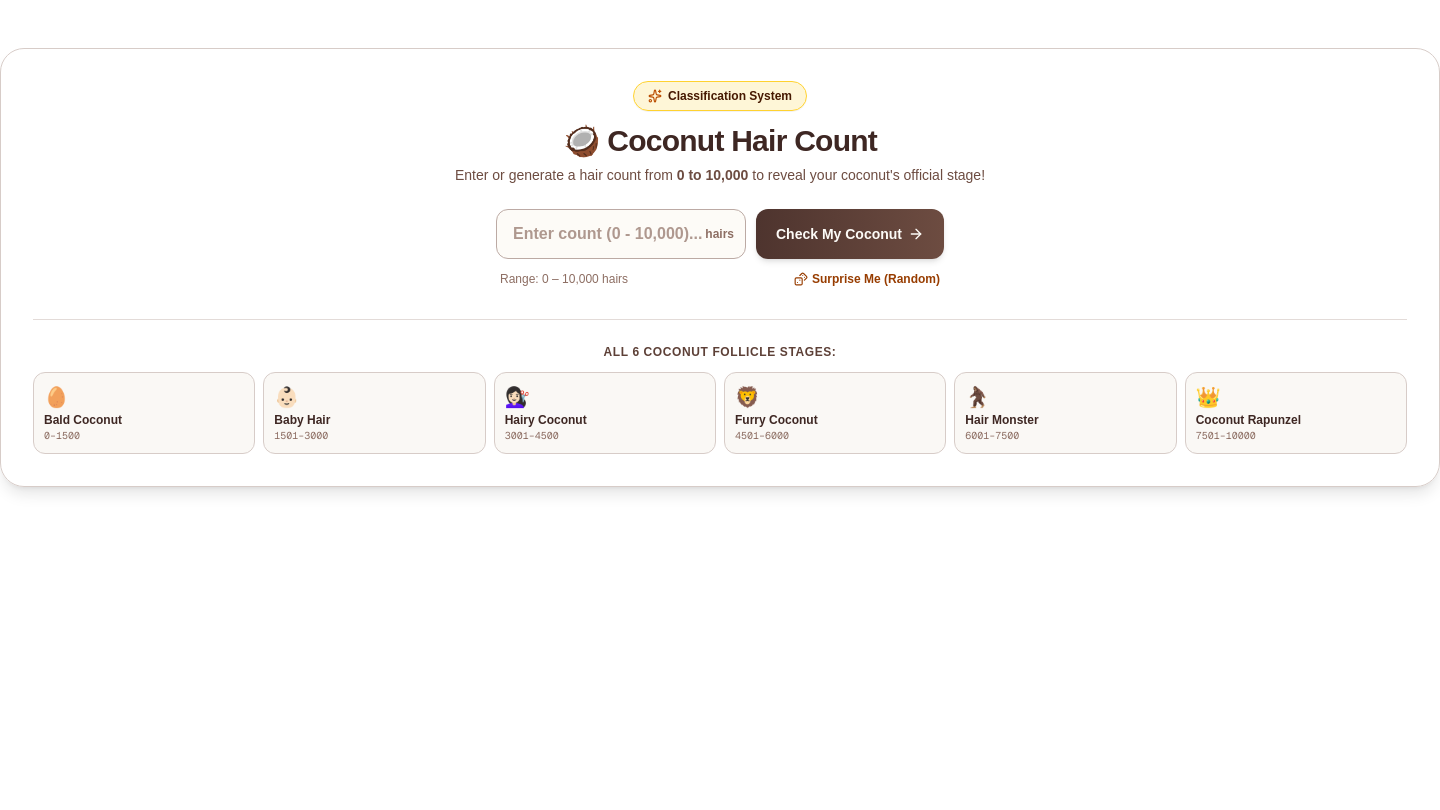
Test: CoconutStageClassifier & getStageForCount › interactively checks input and displays hair count, coconut stage and handles validation
Type "5500" into the number field with placeholder "Enter count (0 - 10,000)..." at (621, 234), box [496,209,746,259]
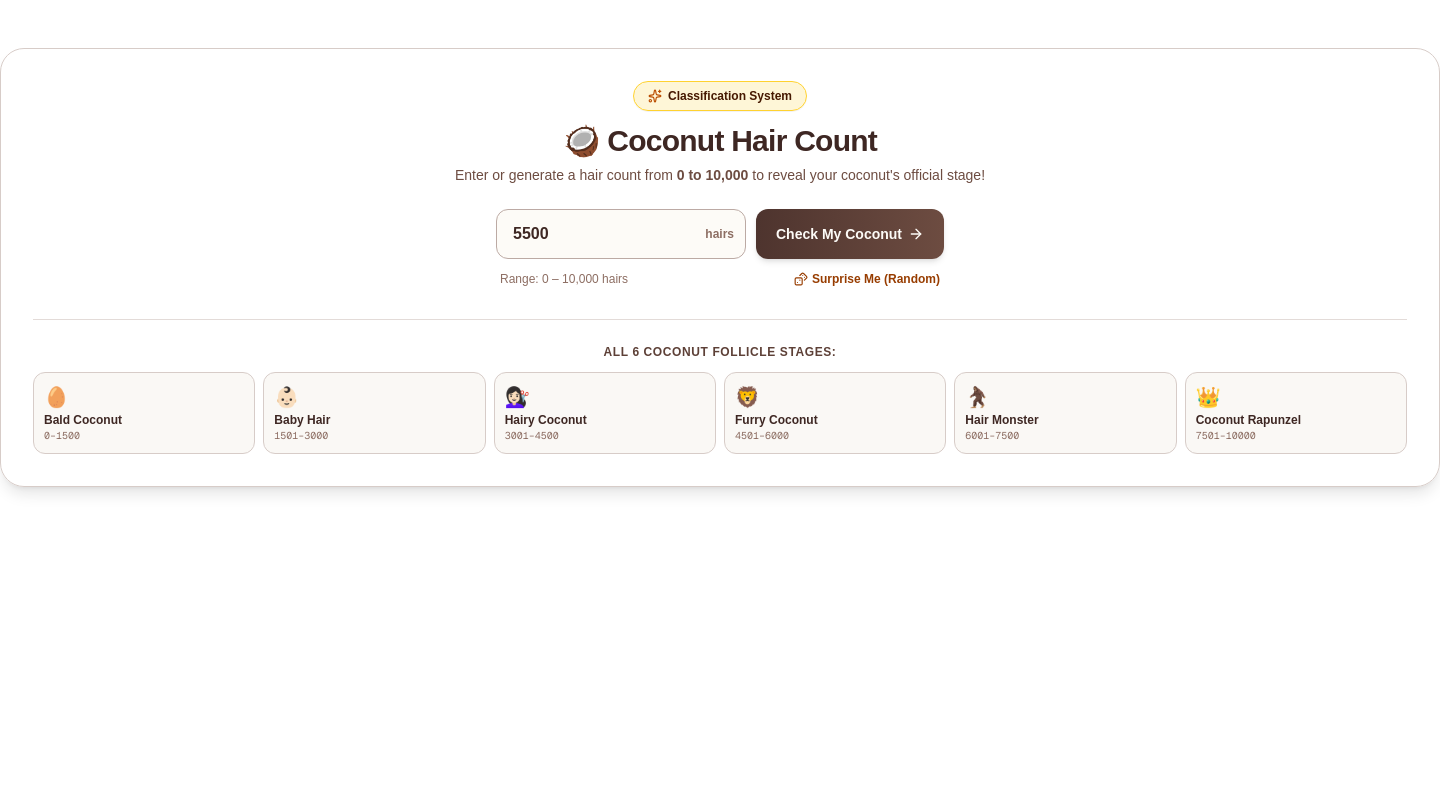
Click the button "Check My Coconut" at (850, 234), box [756,209,944,259]
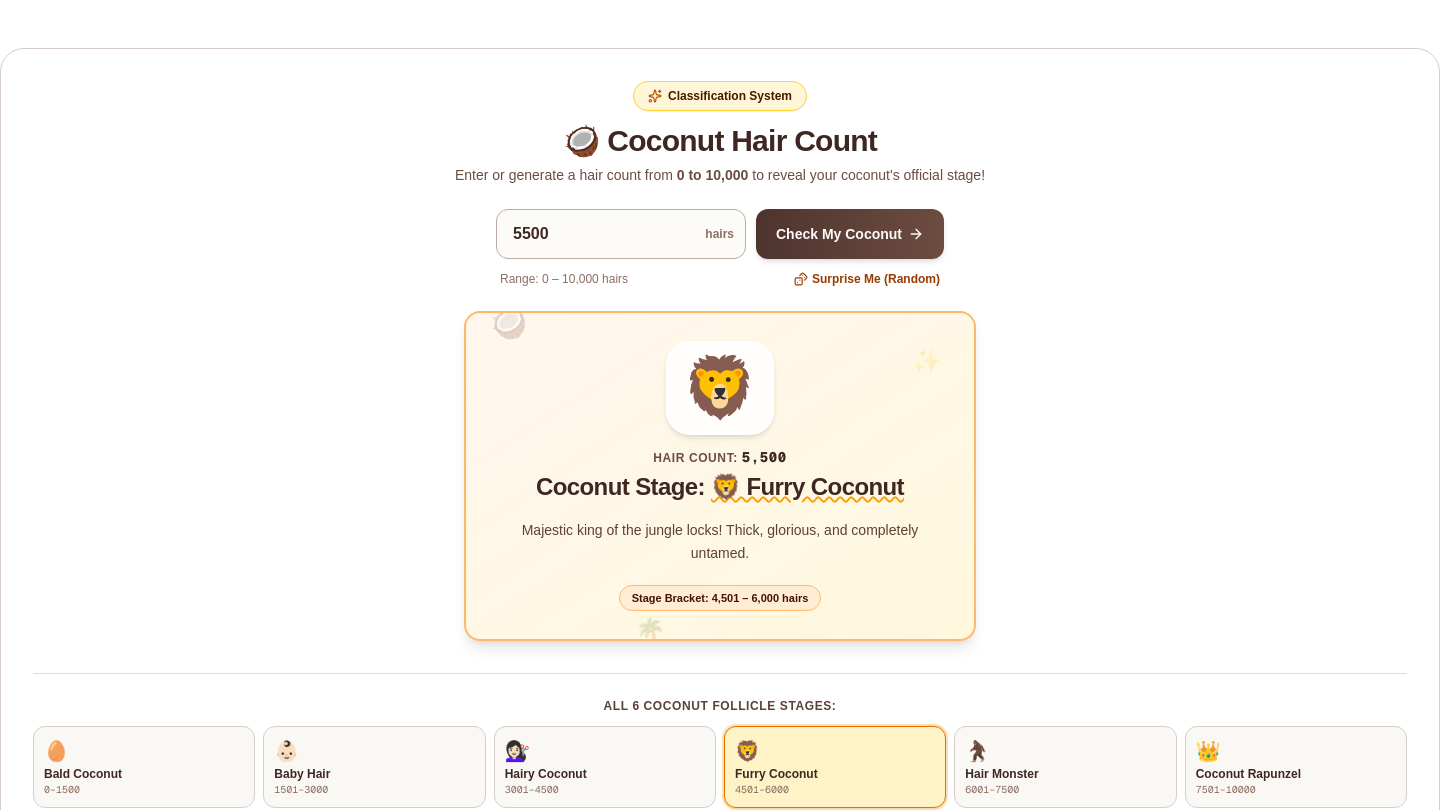
Now the text "🦁 Furry Coconut" is shown, box [711,473,904,500]
Now the text "5,500" is shown, box [742,448,787,466]
Replace the text in the number field with placeholder "Enter count (0 - 10,000)..." with "12500" at (621, 234), box [496,209,746,259]
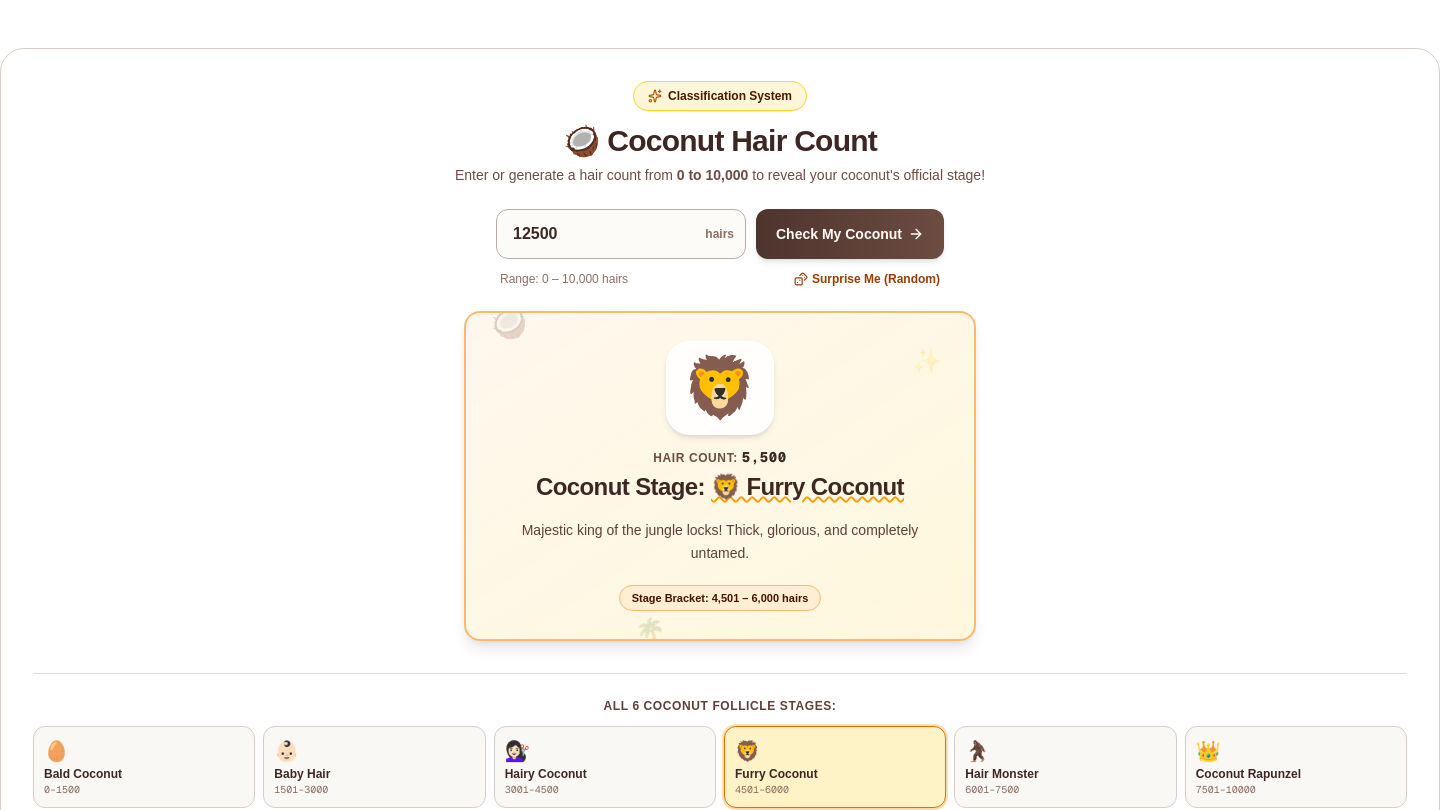
Click the button "Check My Coconut" at (850, 234), box [756,209,944,259]
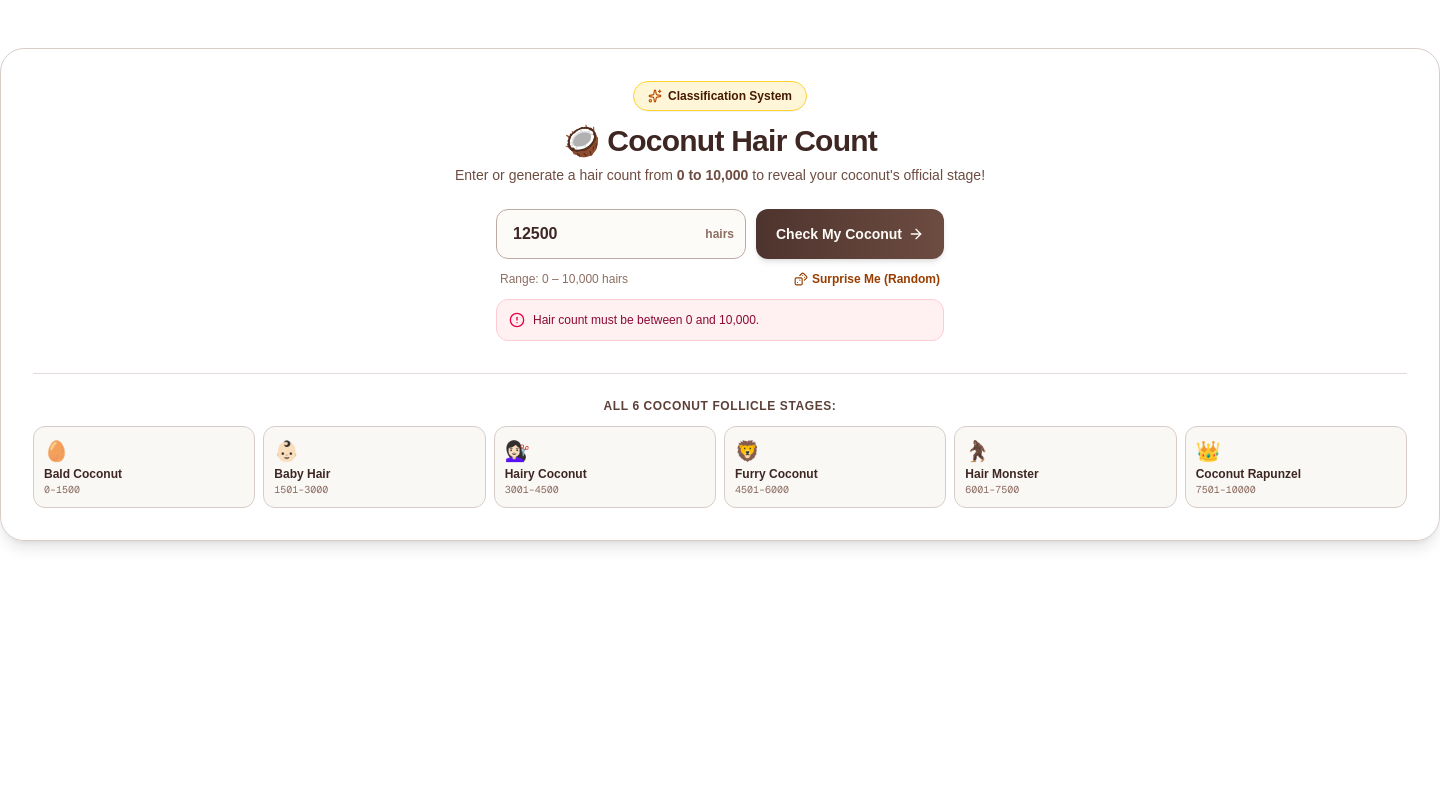
Now the text "Hair count must be between 0 and 10,000." is shown, box [533,312,759,328]
